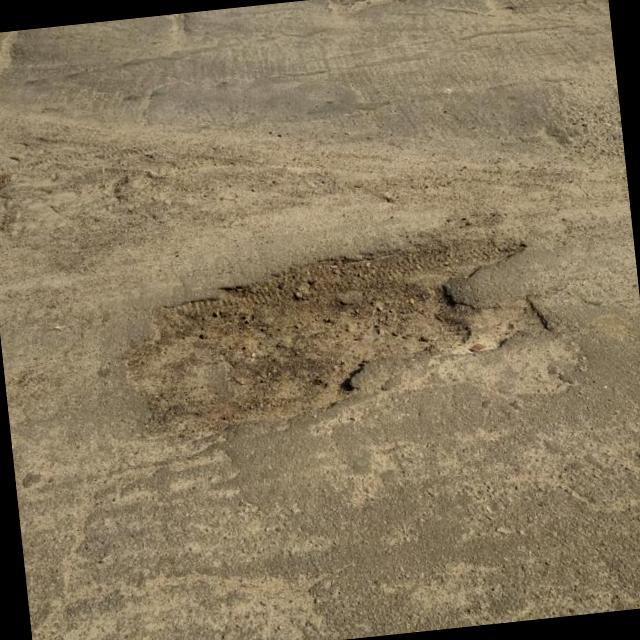pothole: (106, 218, 560, 448)
